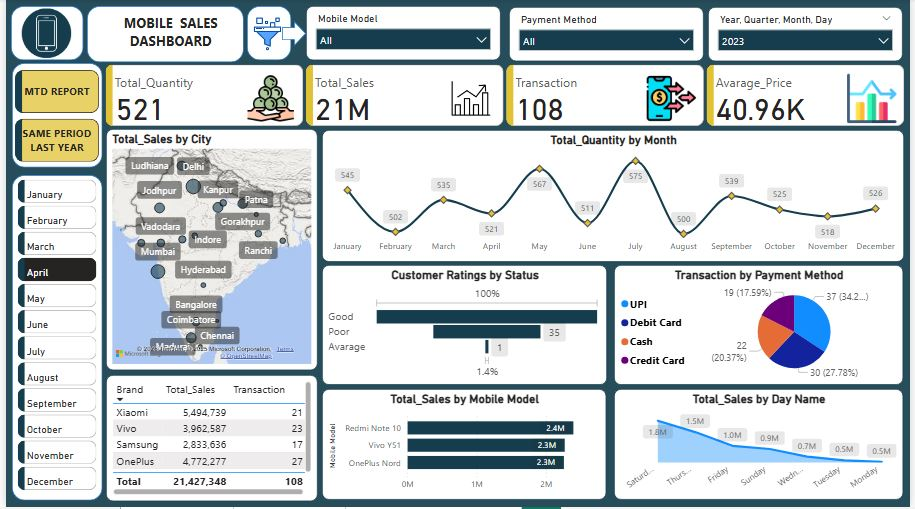

What the dashboard file says about the page in this screenshot:
{"tool":"powerbi","page":{"name":"DASHBOARD","canvas":[1280,720],"ordinal":0},"visuals":[{"type":"shape","box":[7.1,10,102.5,76.9],"z":0},{"type":"image","box":[11.4,8.5,91.1,79.7],"z":1000},{"type":"shape","box":[8.5,91.1,128.1,148.1],"z":2000},{"type":"shape","box":[8.5,249.2,128.1,461.3],"z":3000},{"type":"advancedSlicerVisual","fields":{"Values":["Calender.Dates.Variation.Date Hierarchy.Month"]},"box":[11.4,250.6,122.4,452.8],"z":4000},{"type":"cardVisual","fields":{"Data":["Sales_Data.Total_Quantity","Sales_Data.Total_Sales","Sales_Data.Transaction","Sales_Data.Avarage_Price"]},"box":[136.1,87.9,1143.8,97.8],"z":5000},{"type":"slicer","fields":{"Values":["Sales_Data.Mobile Model"]},"box":[425.7,10,276.2,76.9],"z":6000},{"type":"slicer","fields":{"Values":["Sales_Data.Payment Method"]},"box":[713.3,11.4,276.2,76.9],"z":7000},{"type":"slicer","fields":{"Values":["Calender.Dates.Variation.Date Hierarchy.Year","Calender.Dates.Variation.Date Hierarchy.Quarter","Calender.Dates.Variation.Date Hierarchy.Month","Calender.Dates.Variation.Date Hierarchy.Day"]},"box":[995.2,11.4,276.2,76.9],"z":8000},{"type":"shape","box":[341.7,10,62.6,76.9],"z":9000},{"type":"image","box":[341.7,8.5,58.4,82.6],"z":10000},{"type":"shape","box":[391.5,31.3,34.2,35.6],"z":11000},{"type":"shape","box":[115.3,10,222.1,79.7],"z":12000},{"type":"textbox","box":[153.8,11.4,160.9,75.5],"z":13000},{"type":"map","fields":{"Category":["Sales_Data.City"],"Size":["Sales_Data.Total_Sales"]},"box":[141.7,184.3,300.5,341.6],"z":14000},{"type":"lineChart","fields":{"Category":["Calender.Dates.Variation.Date Hierarchy.Month"],"Y":["Sales_Data.Total_Quantity"]},"box":[447.9,185.7,824.9,187.1],"z":15000},{"type":"funnel","title":"Customer Ratings by Status","fields":{"Y":["CountNonNull(Sales_Data.Customer Ratings)"],"Category":["Sales_Data.Ratings"]},"box":[447.9,377,403.9,170.1],"z":16000},{"type":"pieChart","fields":{"Category":["Sales_Data.Payment Method"],"Y":["Sales_Data.Transaction"]},"box":[861.7,377,409.6,170.1],"z":17000},{"type":"barChart","fields":{"Y":["Sales_Data.Total_Sales"],"Category":["Sales_Data.Mobile Model"]},"box":[447.9,552.8,402.5,157.3],"z":18000},{"type":"areaChart","fields":{"Y":["Sales_Data.Total_Sales"],"Category":["Calender.Day Name"]},"box":[861.7,552.8,409.6,157.3],"z":19000},{"type":"tableEx","fields":{"Values":["Sales_Data.Brand","Sales_Data.Total_Sales","Sales_Data.Transaction"]},"box":[142.4,532.5,300.4,179.4],"z":20000},{"type":"pageNavigator","box":[12.8,100.6,119.1,130.4],"z":20001}]}

Visuals, with their boxes in screenshot pixels (x1, y1, x2, y2), scaled from the page's 1280x720 canvas onto the 915x509 screenshot:
shape: x1=5 y1=7 x2=78 y2=61
image: x1=8 y1=6 x2=73 y2=62
shape: x1=6 y1=64 x2=98 y2=169
shape: x1=6 y1=176 x2=98 y2=502
advancedSlicerVisual - Calender.Dates.Variation.Date Hierarchy.Month: x1=8 y1=177 x2=96 y2=497
cardVisual - Sales_Data.Total_Quantity x Sales_Data.Total_Sales: x1=97 y1=62 x2=914 y2=131
slicer - Sales_Data.Mobile Model: x1=304 y1=7 x2=502 y2=61
slicer - Sales_Data.Payment Method: x1=510 y1=8 x2=707 y2=62
slicer - Calender.Dates.Variation.Date Hierarchy.Year x Calender.Dates.Variation.Date Hierarchy.Quarter: x1=711 y1=8 x2=909 y2=62
shape: x1=244 y1=7 x2=289 y2=61
image: x1=244 y1=6 x2=286 y2=64
shape: x1=280 y1=22 x2=304 y2=47
shape: x1=82 y1=7 x2=241 y2=63
textbox: x1=110 y1=8 x2=225 y2=61
map - Sales_Data.City x Sales_Data.Total_Sales: x1=101 y1=130 x2=316 y2=372
lineChart - Calender.Dates.Variation.Date Hierarchy.Month x Sales_Data.Total_Quantity: x1=320 y1=131 x2=910 y2=264
"Customer Ratings by Status" funnel: x1=320 y1=267 x2=609 y2=387
pieChart - Sales_Data.Payment Method x Sales_Data.Transaction: x1=616 y1=267 x2=909 y2=387
barChart - Sales_Data.Total_Sales x Sales_Data.Mobile Model: x1=320 y1=391 x2=608 y2=502
areaChart - Sales_Data.Total_Sales x Calender.Day Name: x1=616 y1=391 x2=909 y2=502
tableEx - Sales_Data.Brand x Sales_Data.Total_Sales: x1=102 y1=376 x2=317 y2=503
pageNavigator: x1=9 y1=71 x2=94 y2=163
